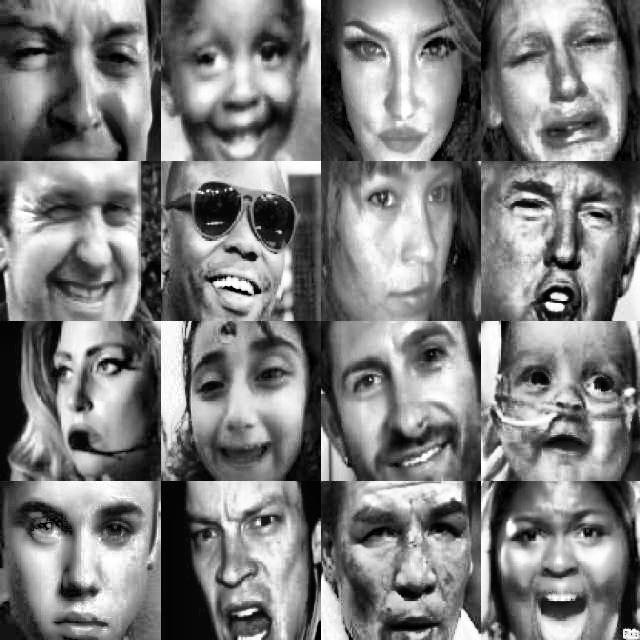angry: (180, 484, 314, 640), (495, 171, 629, 322), (500, 494, 631, 640), (348, 492, 468, 640)
happy: (333, 322, 475, 478), (6, 165, 146, 317), (336, 3, 470, 159), (179, 318, 307, 476), (166, 8, 300, 156), (172, 164, 298, 316), (495, 339, 633, 473)
neutral: (9, 487, 147, 639), (33, 335, 156, 475)
sad: (1, 1, 152, 155), (487, 6, 640, 157), (336, 169, 464, 323)
